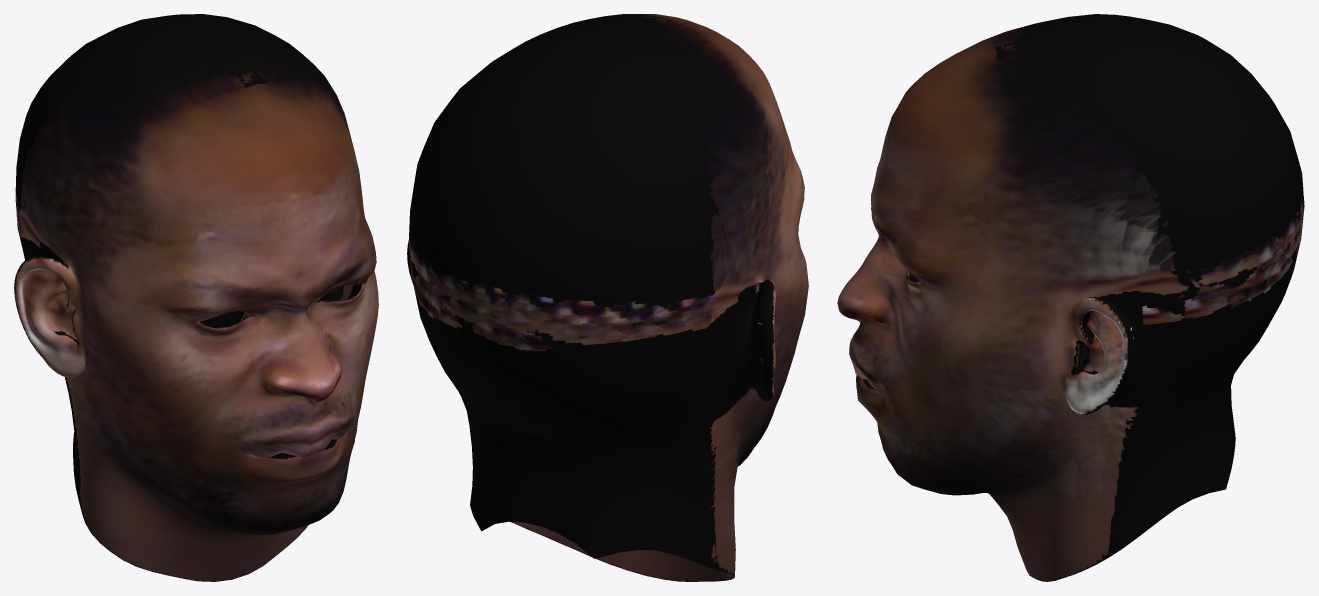
File: Sneer.obj
3 views of the same model, side by side, from view 1: azimuth 30°, elevation 25°; view 2: azimuth 150°, elevation 25°; view 3: azimuth 270°, elevation 25° (orthographic). The views are drawn at different scales.
Size of the model in its own units: 191 by 281 by 223.
